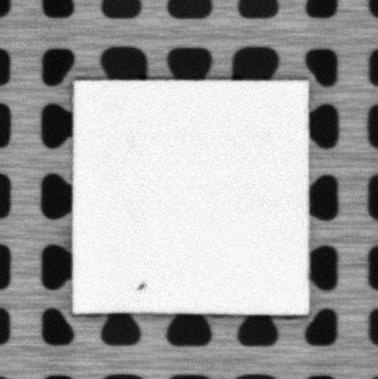DIE_INK: (136, 279, 147, 292)
